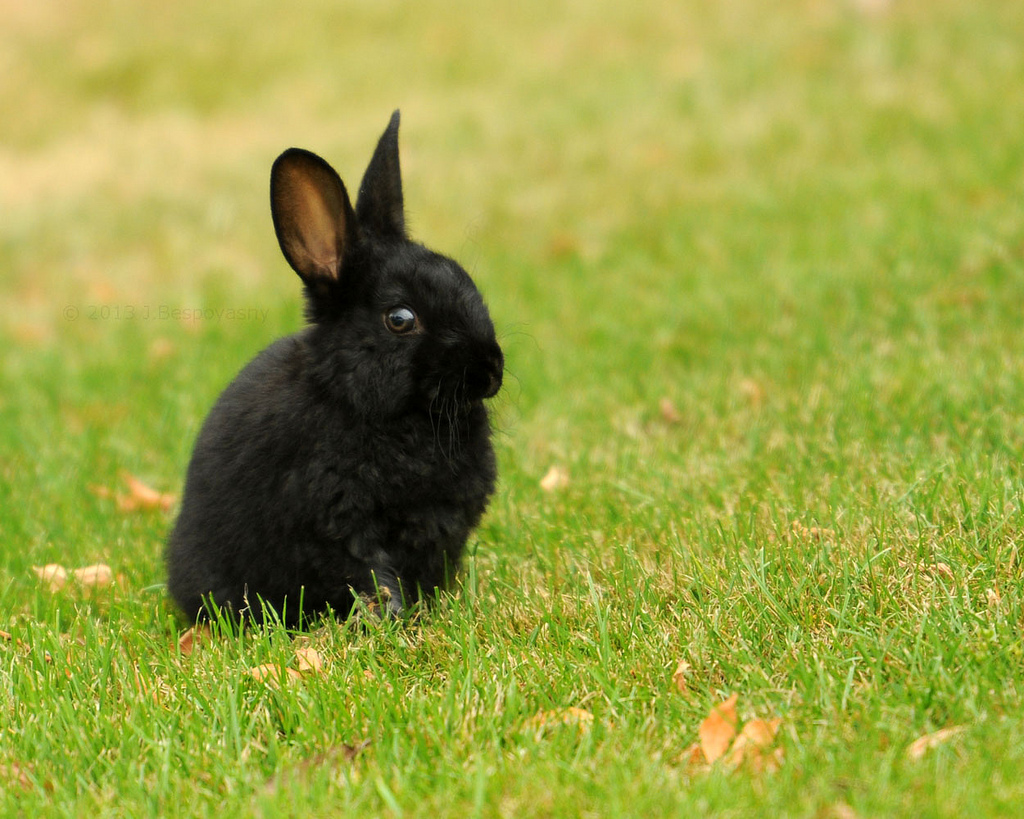bunny: (153, 99, 523, 655)
